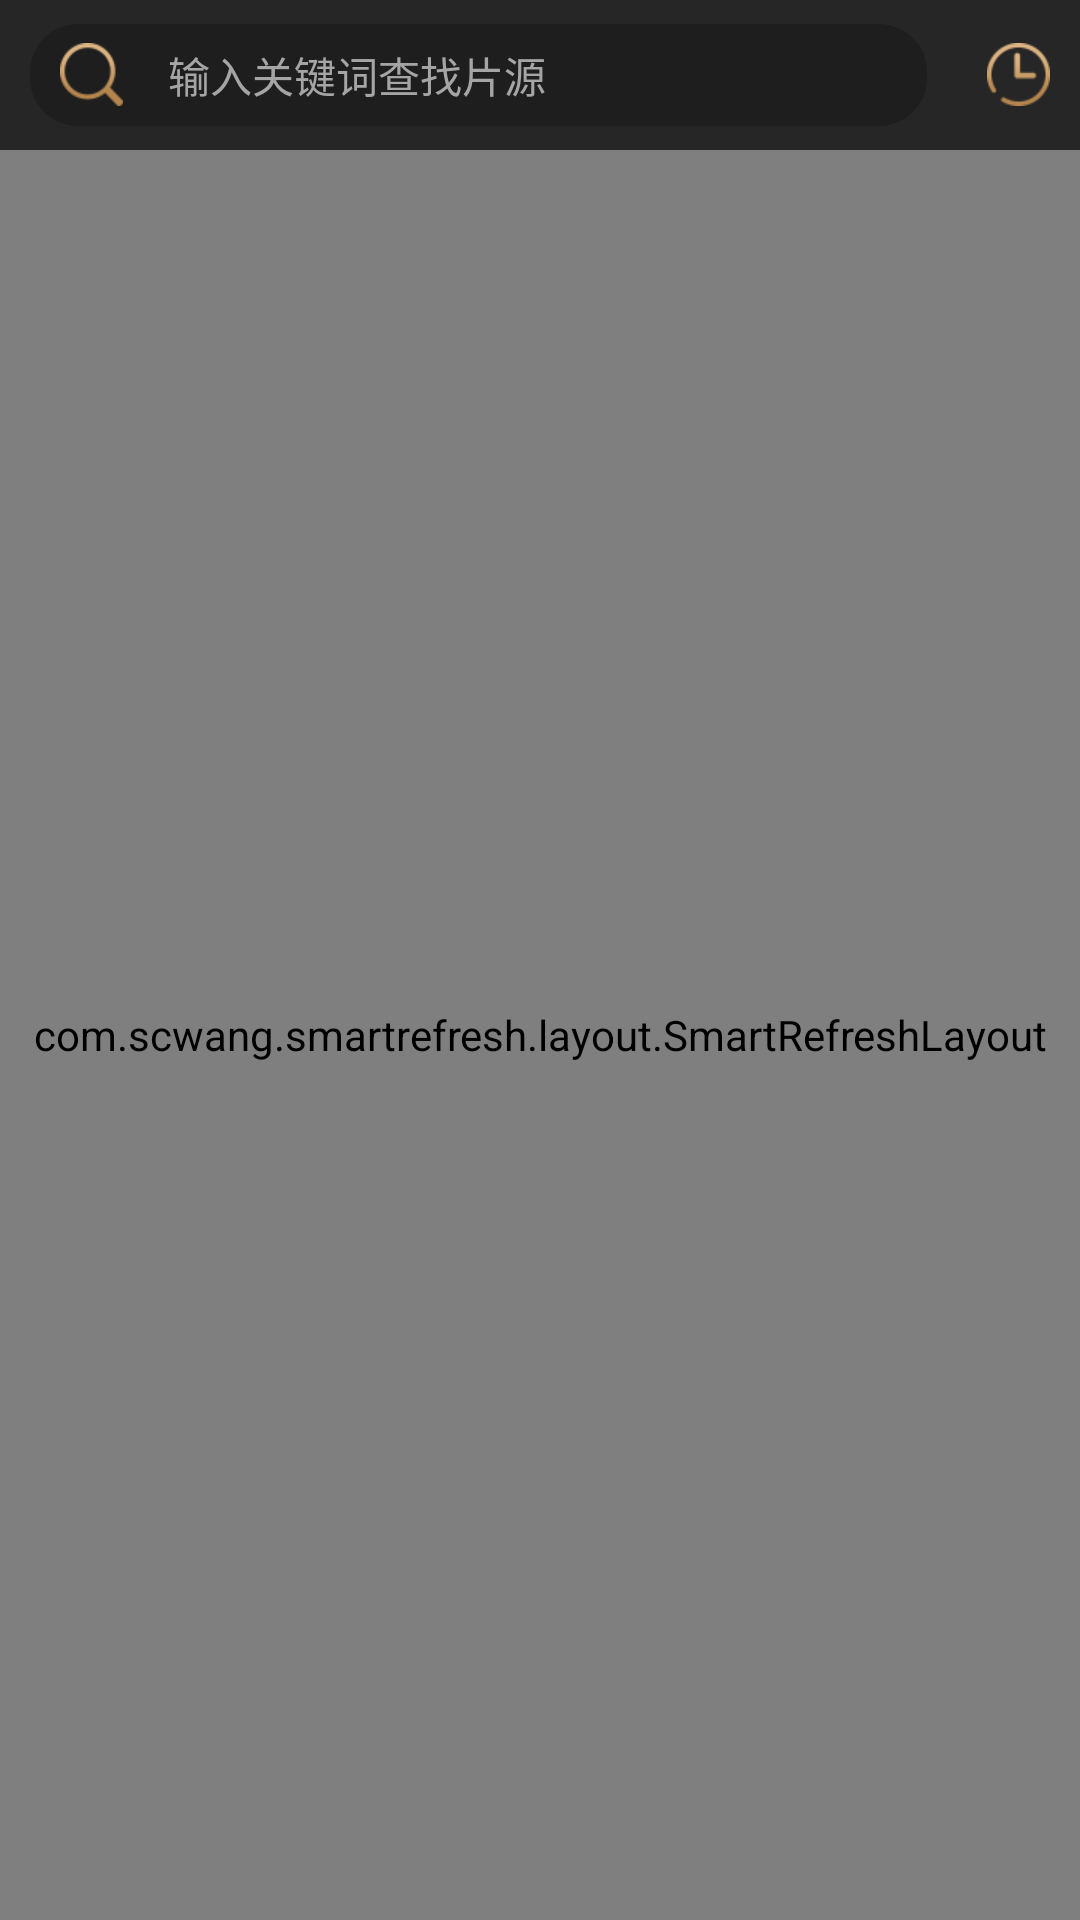

Icon click points for this 1080 x 1920 phone screenshot, format [x,y]:
history: [1018,74]
